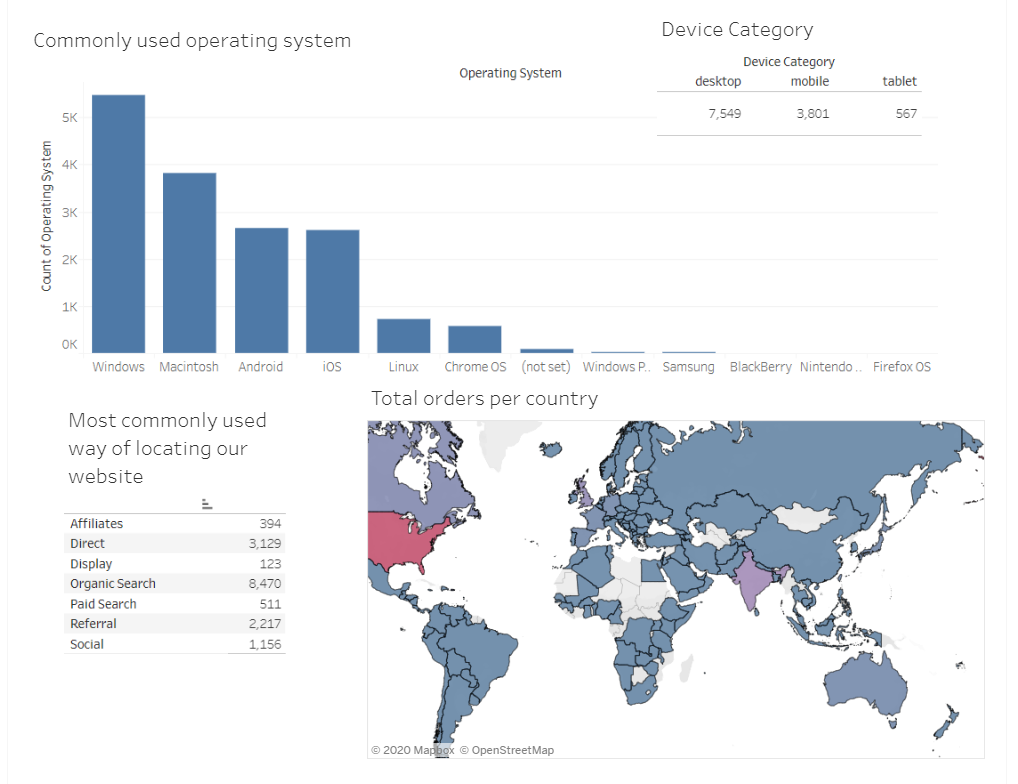

This screenshot's page, from the dashboard's own definition file:
{"tool":"tableau","page":{"name":"Dashboard 1","canvas":[1000,800],"ordinal":0},"visuals":[{"type":"worksheet","box":[0,0,1000,800]},{"type":"worksheet","param":"vert","box":[8,8,984,784]},{"type":"worksheet","box":[8,8,984,784]},{"type":"worksheet","title":"Device ","mark":"Automatic","cols":["deviceCategory"],"box":[649,17,295,146]},{"type":"worksheet","title":"Operating","mark":"Automatic","rows":["operatingSystem"],"cols":["operatingSystem"],"box":[21,28,909,356]},{"type":"worksheet","title":"Country","mark":"Automatic","box":[359,386,618,382]},{"type":"worksheet","title":"Channels","mark":"Automatic","rows":["channelGrouping"],"box":[56,407,276,353]}]}

Visuals, with their boxes on the page's 1000x800 design canvas (x1, y1, x2, y2). These are canvas units, not pixel positions in the 1018x784 screenshot, which may show the page scaled, cropped or inside an application window:
worksheet: {"left": 0, "top": 0, "right": 1000, "bottom": 800}
worksheet: {"left": 8, "top": 8, "right": 992, "bottom": 792}
worksheet: {"left": 8, "top": 8, "right": 992, "bottom": 792}
"Device " worksheet: {"left": 649, "top": 17, "right": 944, "bottom": 163}
"Operating" worksheet: {"left": 21, "top": 28, "right": 930, "bottom": 384}
"Country" worksheet: {"left": 359, "top": 386, "right": 977, "bottom": 768}
"Channels" worksheet: {"left": 56, "top": 407, "right": 332, "bottom": 760}
